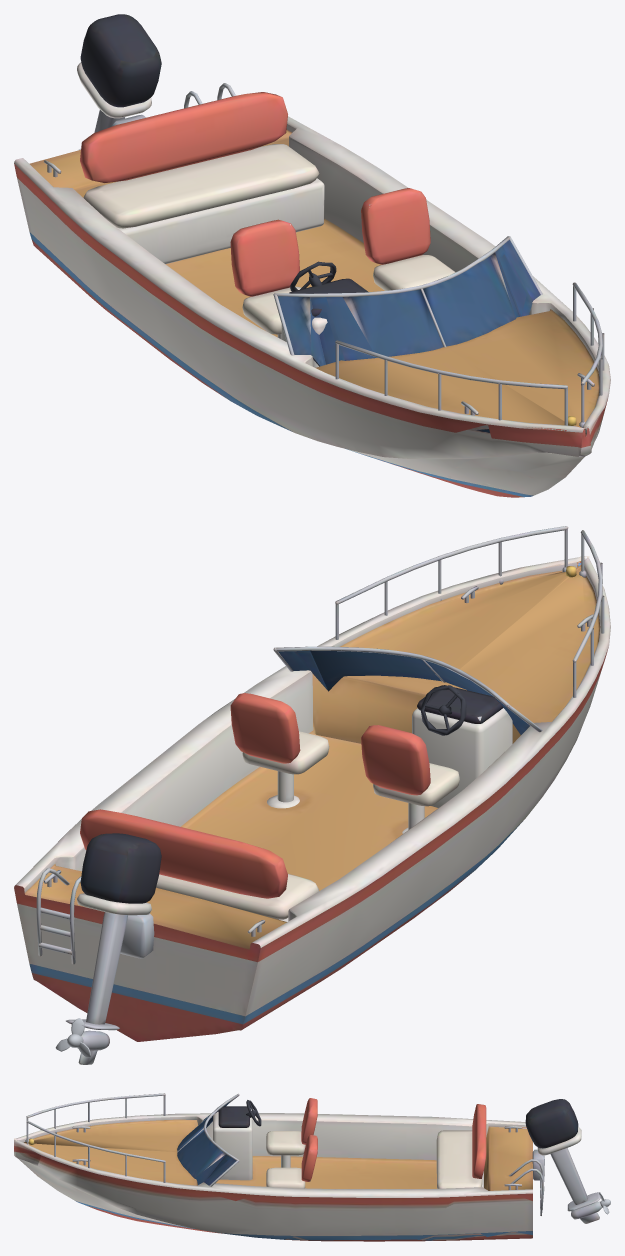
The model's file is motorboat.glb.
The picture shows the model from 3 angles, top to bottom: view 1: azimuth 30°, elevation 25°; view 2: azimuth 150°, elevation 25°; view 3: azimuth 270°, elevation 25°; orthographic projection. The views are drawn at different scales.
Visible parts, largest first — view 1: motorboat_body; view 2: motorboat_body, motorboat_steering_wheel; view 3: motorboat_body, motorboat_steering_wheel.
Part boxes in pixels (left/top/right/bottom): motorboat_body: left=14, top=14, right=610, bottom=497; motorboat_body: left=14, top=526, right=610, bottom=1064; motorboat_steering_wheel: left=420, top=685, right=466, bottom=735; motorboat_body: left=14, top=1093, right=601, bottom=1241; motorboat_steering_wheel: left=246, top=1100, right=261, bottom=1126.
Bounding box in the file's own units: 2.46 × 1.83 × 7.53.
3 materials, 1 textured.
